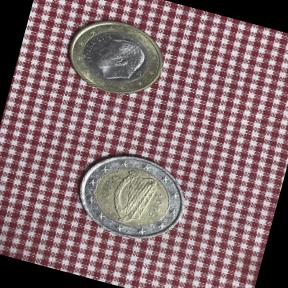coin: (64, 140, 198, 257), (56, 7, 176, 110)
